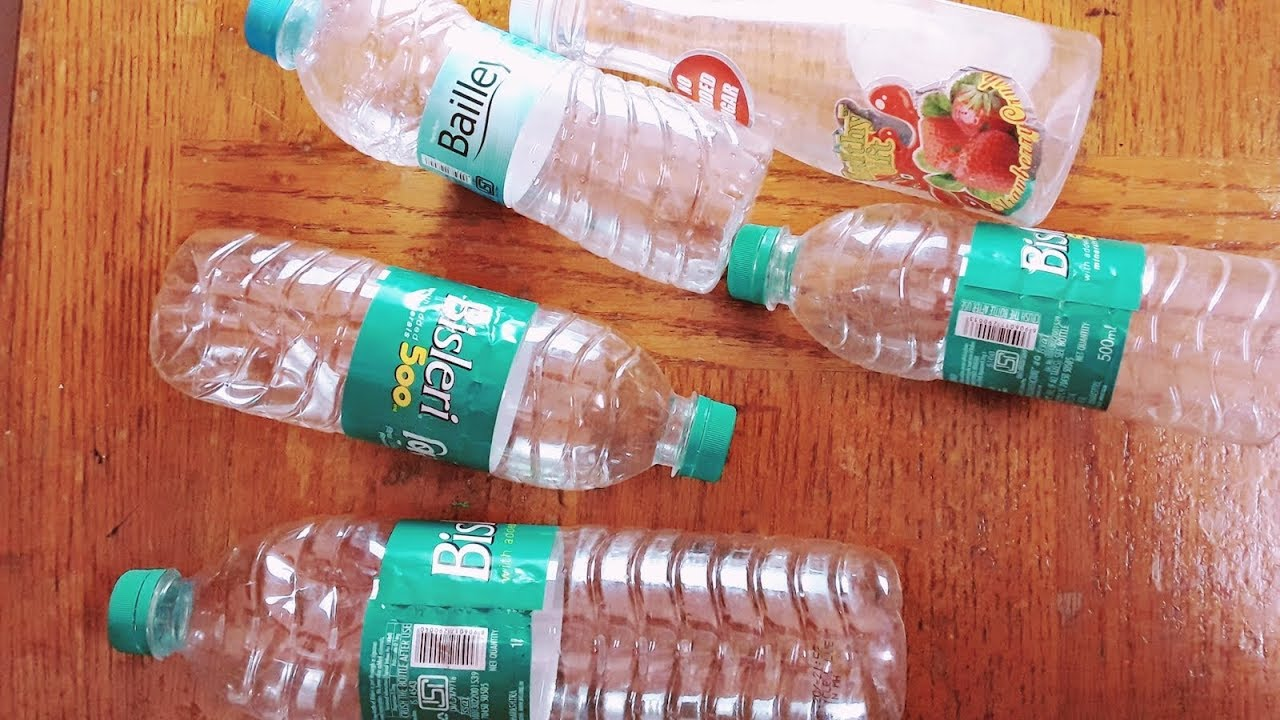plastic_bottle: (194, 1, 953, 417), (87, 209, 813, 590), (679, 105, 1280, 511), (463, 1, 1219, 323), (33, 477, 1001, 720)
